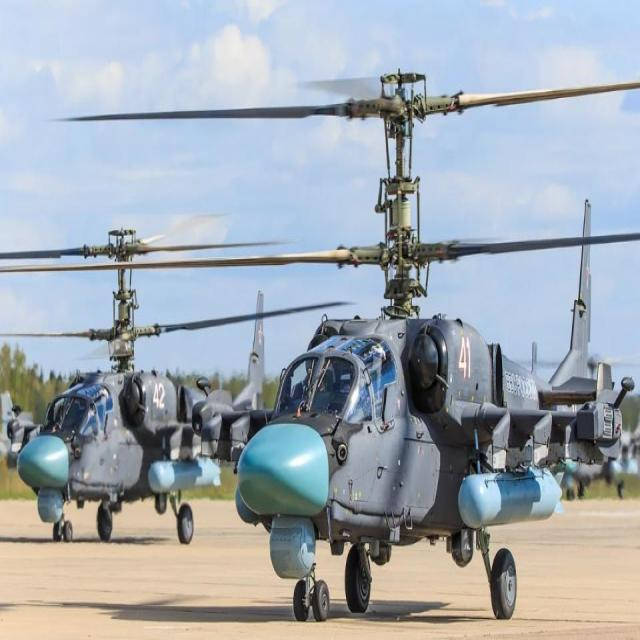MIL_HELO: (49, 68, 640, 619), (8, 222, 228, 548)
